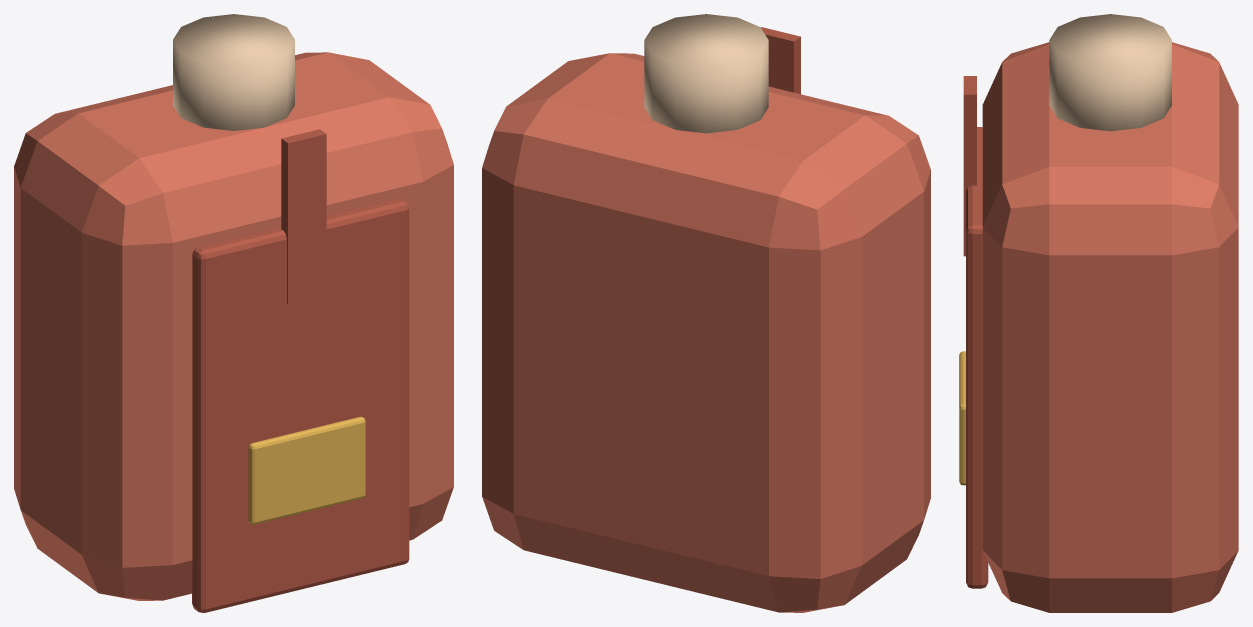
File: fig_torso_apron.glb
3 renders of one model, left to right at view 1: azimuth 30°, elevation 25°; view 2: azimuth 150°, elevation 25°; view 3: azimuth 270°, elevation 25°, orthographic. The views are drawn at different scales.
Visible parts, largest first — view 1: cloth_body, cloth2_bib, skin_neck, accent_pocket, cloth2_strap; view 2: cloth_body, skin_neck, cloth2_strap; view 3: cloth_body, skin_neck, cloth2_bib, cloth2_strap, accent_pocket.
Boxes of the visible parts, left/top/right/bottom form: cloth_body: left=14, top=52, right=453, bottom=600; cloth2_bib: left=192, top=198, right=409, bottom=612; skin_neck: left=173, top=14, right=294, bottom=130; accent_pocket: left=248, top=416, right=365, bottom=524; cloth2_strap: left=281, top=129, right=326, bottom=304; cloth_body: left=482, top=53, right=930, bottom=612; skin_neck: left=644, top=14, right=768, bottom=133; cloth2_strap: left=761, top=27, right=800, bottom=94; cloth_body: left=982, top=42, right=1238, bottom=612; skin_neck: left=1049, top=14, right=1171, bottom=131; cloth2_bib: left=966, top=127, right=988, bottom=588; cloth2_strap: left=963, top=76, right=976, bottom=256; accent_pocket: left=959, top=351, right=965, bottom=485.
Bounding box in the file's own units: 0.38 × 0.505 × 0.251.
